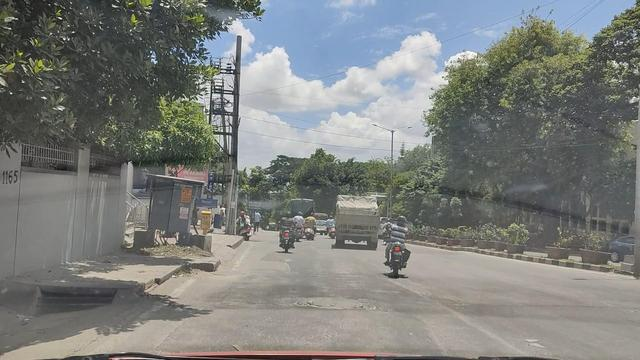HMV: (329, 191, 384, 249), (288, 196, 321, 240)
RoadDamages: (286, 283, 381, 318)
